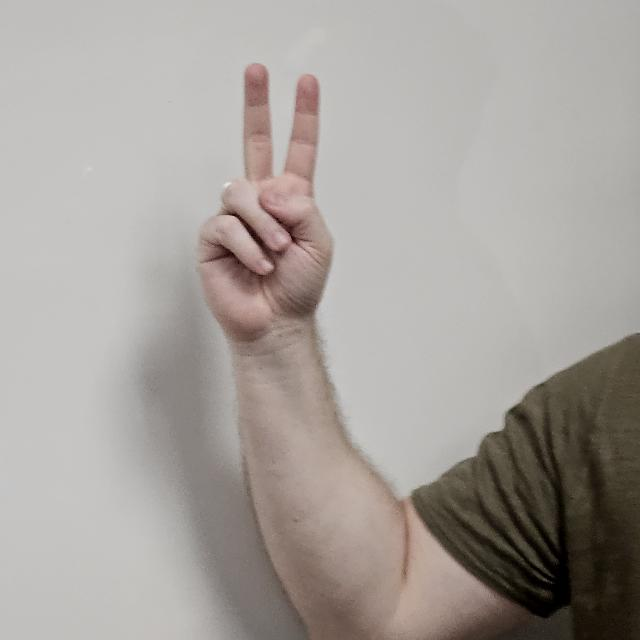Triangulo: (191, 62, 337, 374)
